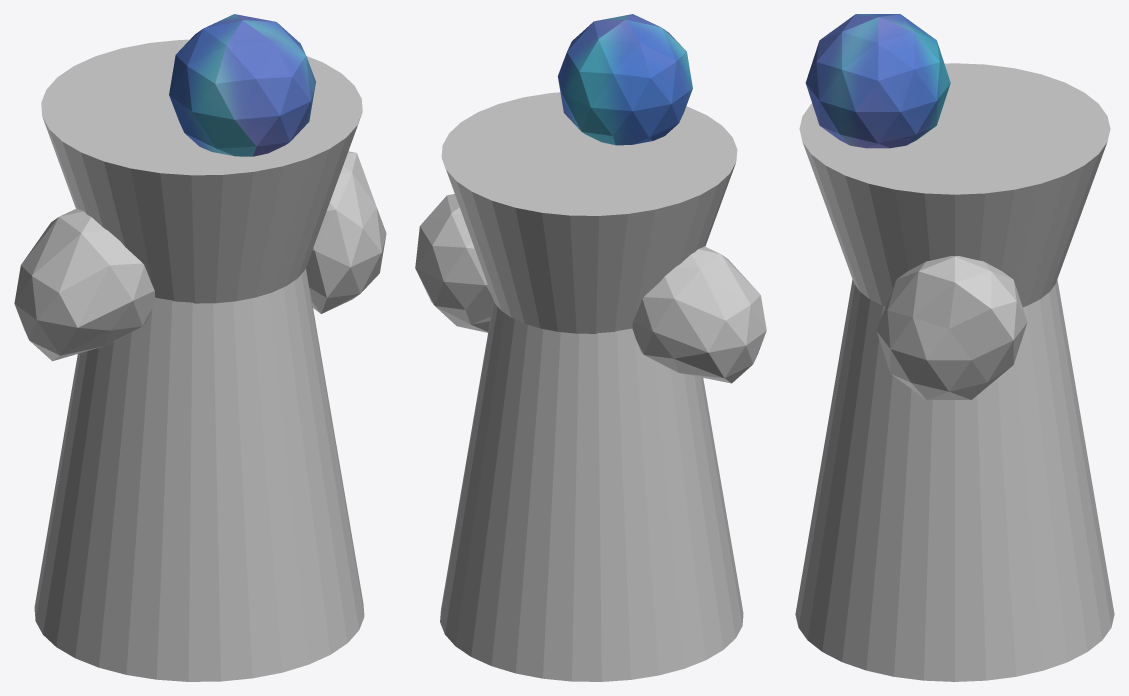
The model's file is Liz_Healer_prefab.dae.
3 renders of one model, left to right at view 1: azimuth 30°, elevation 25°; view 2: azimuth 150°, elevation 25°; view 3: azimuth 270°, elevation 25°, orthographic. The views are drawn at different scales.
Visible parts, largest first — view 1: Cylinder.003, Icosphere; view 2: Cylinder.003, Icosphere; view 3: Cylinder.003, Icosphere.
Boxes of the visible parts, x1,y1,x2,y2 form: Cylinder.003: (14, 39, 386, 681); Icosphere: (169, 14, 315, 156); Cylinder.003: (415, 92, 766, 681); Icosphere: (557, 14, 692, 145); Cylinder.003: (795, 63, 1114, 681); Icosphere: (805, 14, 950, 148).
Size of the model in its own units: 2.03 by 1.66 by 3.44.
